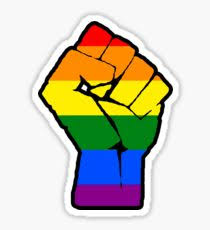fist: (41, 23, 174, 156)
